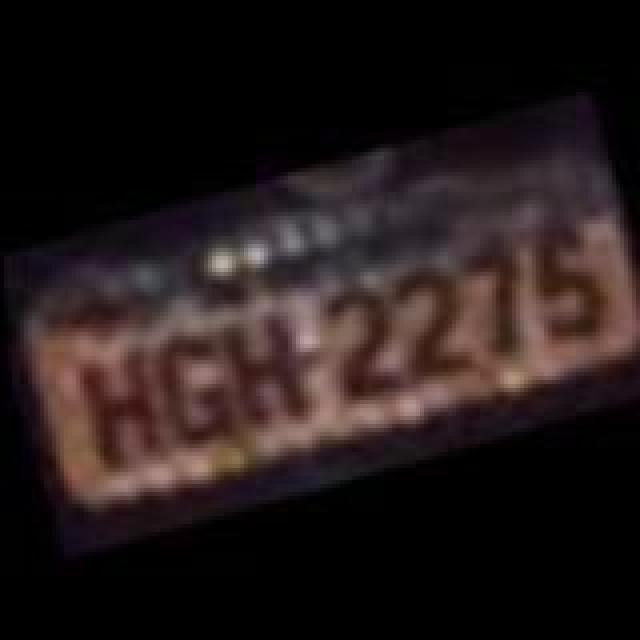2: (312, 272, 416, 408), (380, 254, 476, 382)
5: (514, 206, 610, 346)
7: (454, 228, 546, 356)
G: (138, 322, 242, 458)
H: (210, 300, 314, 436), (68, 336, 168, 472)
